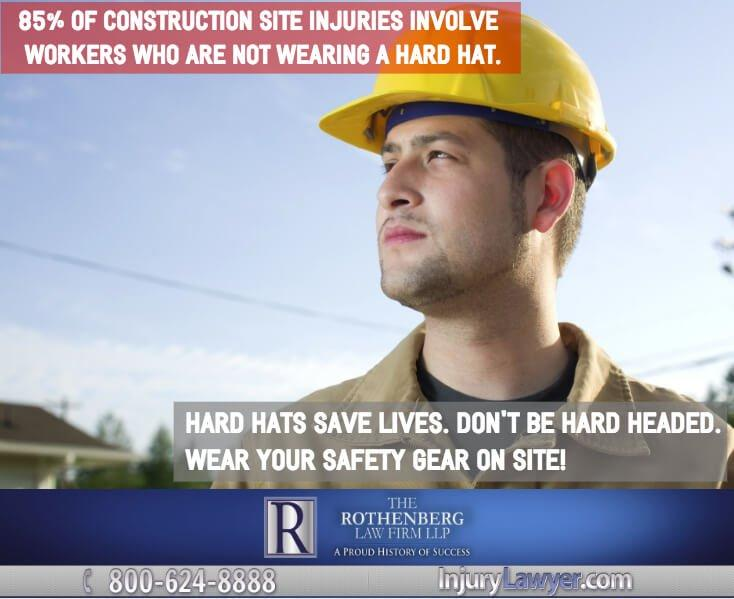helmet: (314, 13, 623, 169)
